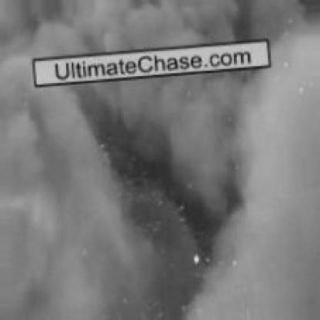Smoke: (14, 85, 316, 307)
